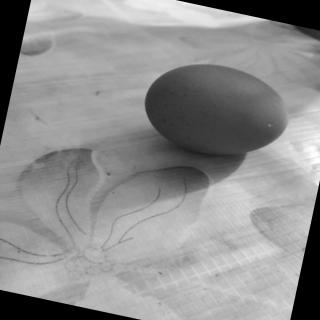Telur: (134, 51, 300, 174)
